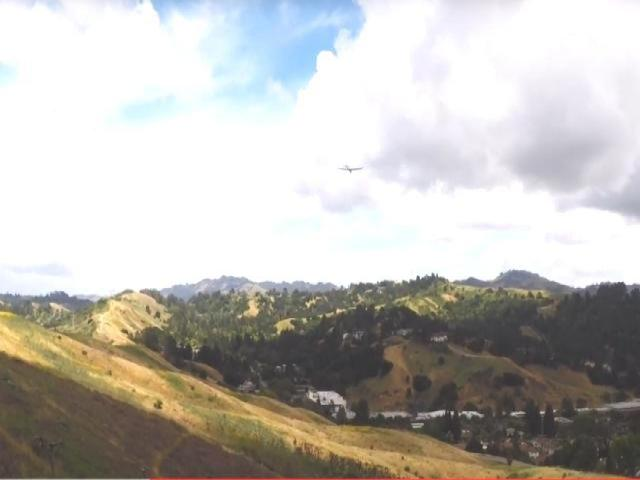iha: (336, 161, 364, 176)
